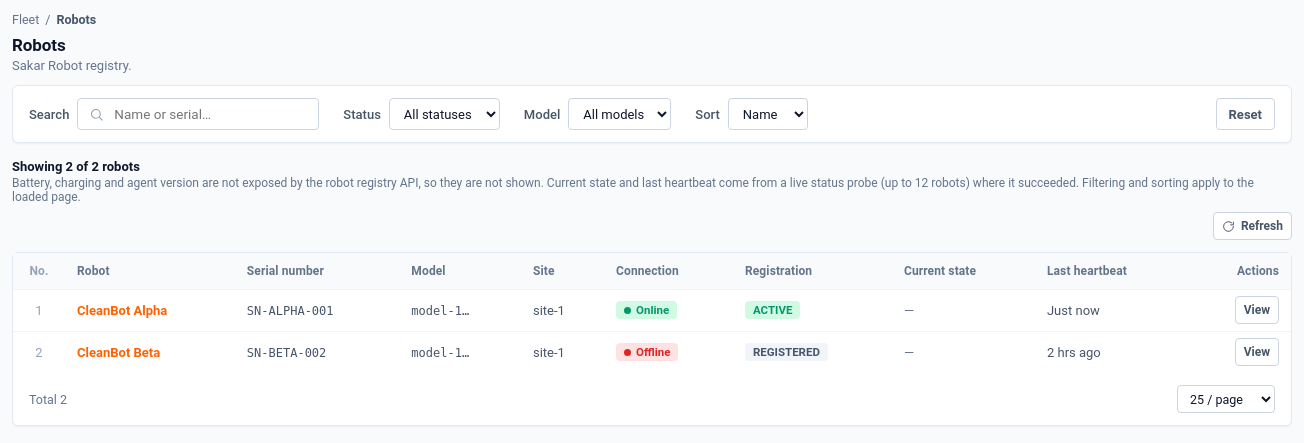
RobotsListPage › shows a filtered-empty state when filters exclude every robot
Expected: the button "CleanBot Alpha" is shown, [77,302,167,318]
Type "no-such-robot" into the search field named "Search robots by name or serial number".
click(198, 114); type("no-such-robot")  # box [77,98,319,130]
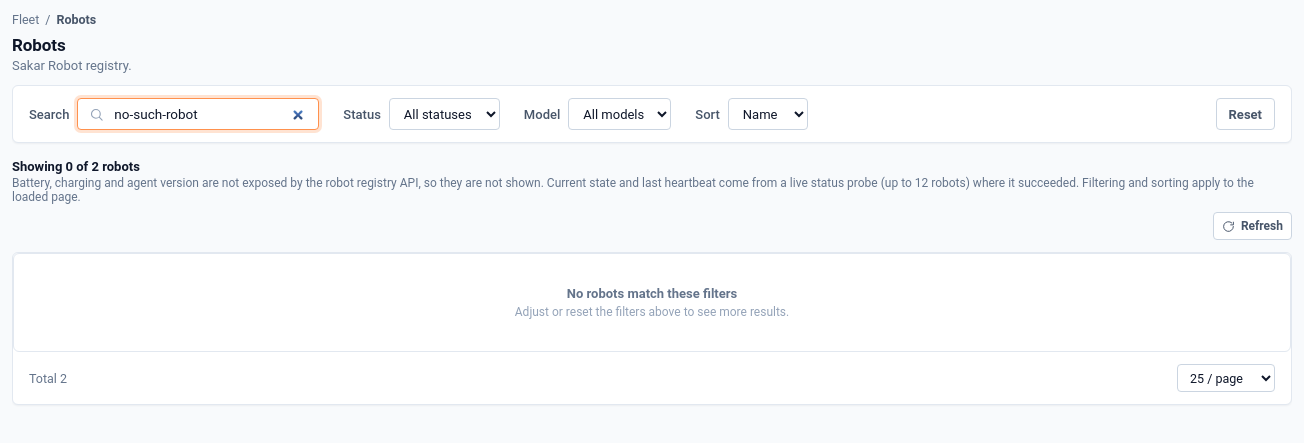
Expected: the text "No robots match these filters" is shown, [567,286,737,301]
